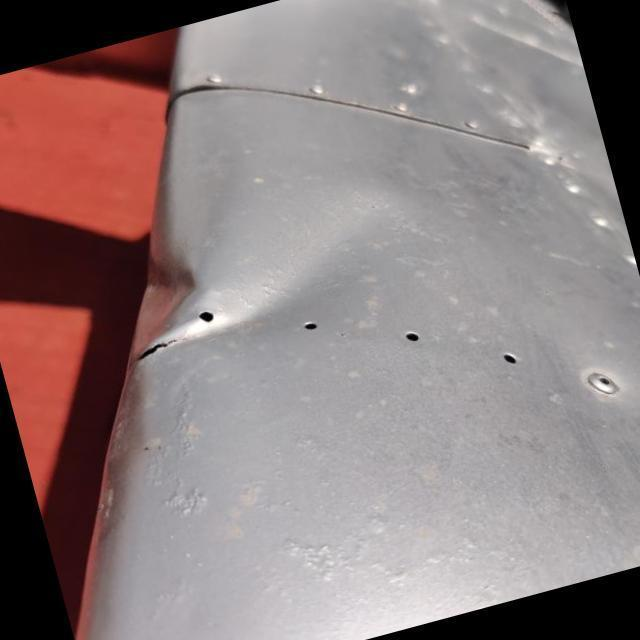Dent: (68, 192, 314, 408)
Rupture: (114, 323, 195, 375)
